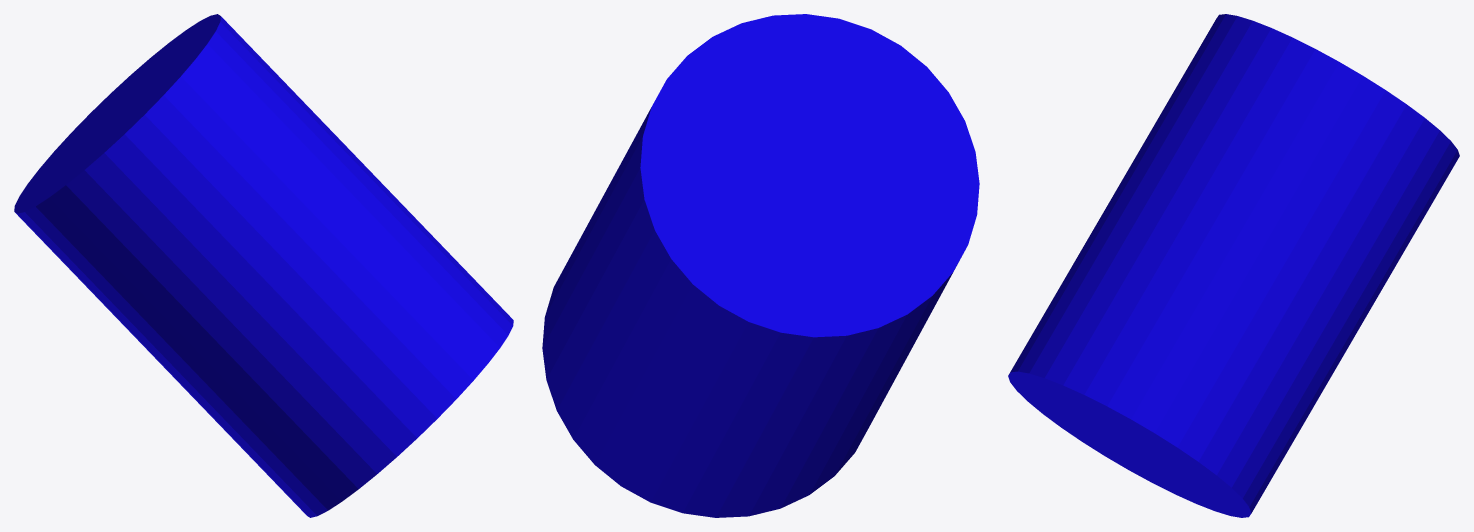
Rendered from Item.fbx.
3 renders of one model, left to right at view 1: azimuth 30°, elevation 25°; view 2: azimuth 150°, elevation 25°; view 3: azimuth 270°, elevation 25°, orthographic. The views are drawn at different scales.
Parts seen in each view (by area): view 1: 円柱; view 2: 円柱; view 3: 円柱.
Boxes of the visible parts, x1=… form: 円柱: x1=14, y1=14, x2=513, y2=517; 円柱: x1=542, y1=14, x2=979, y2=517; 円柱: x1=1008, y1=14, x2=1459, y2=517.
Size of the model in its own units: 3.86 by 4.21 by 3.84.
